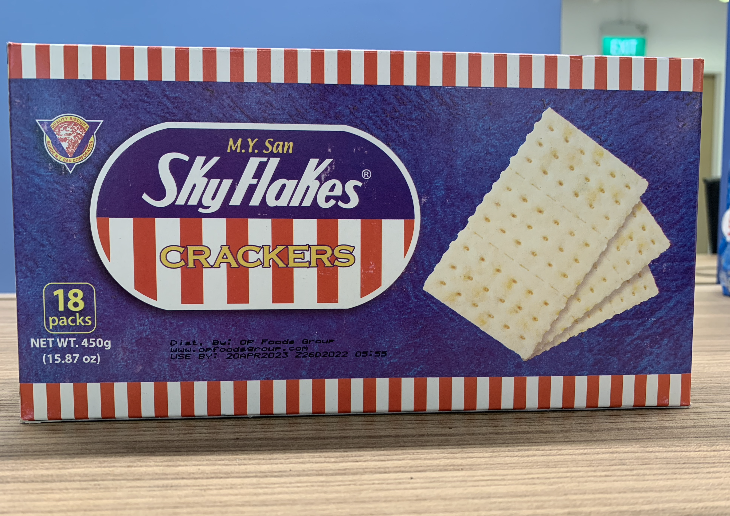crackers_400g-499g: (31, 90, 666, 374)
